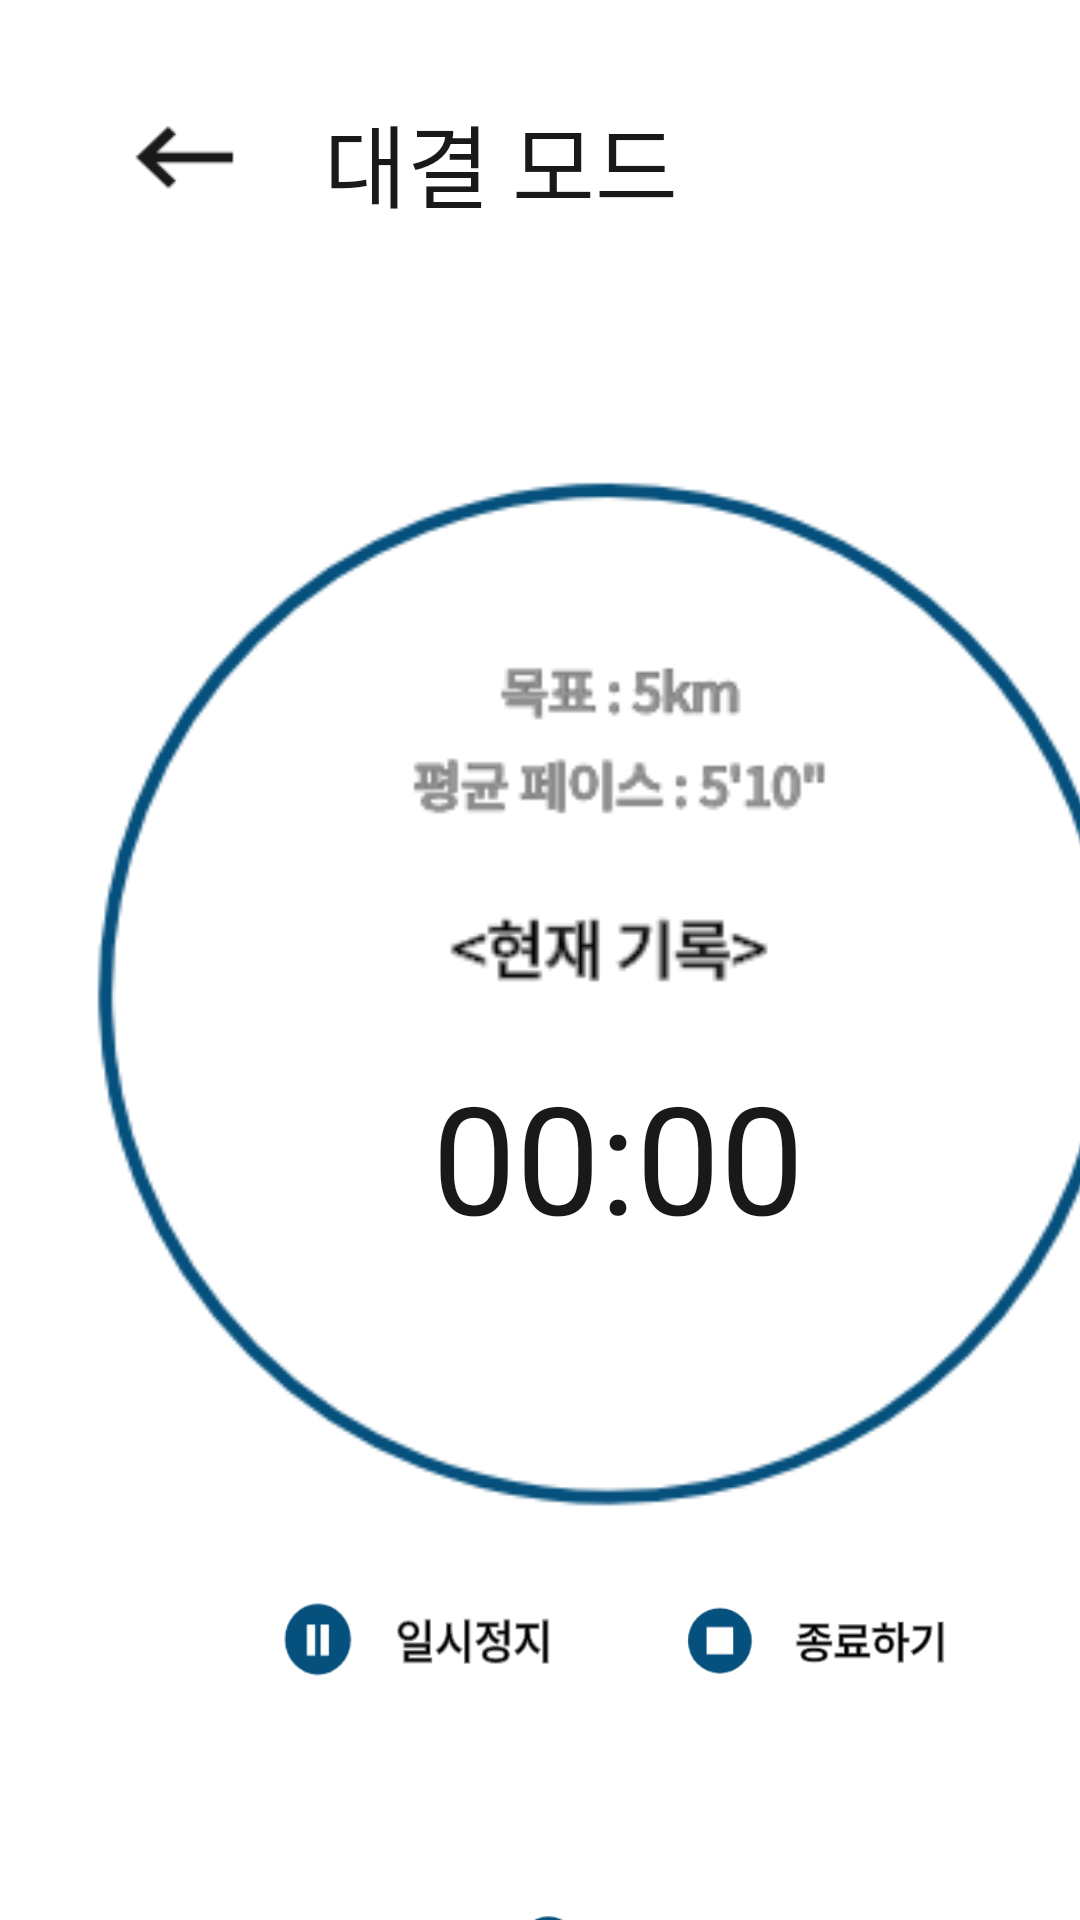

Icons on this 1080x1920 Android screen, each with the point to tap as point (x, y):
pre: point (184, 157)
